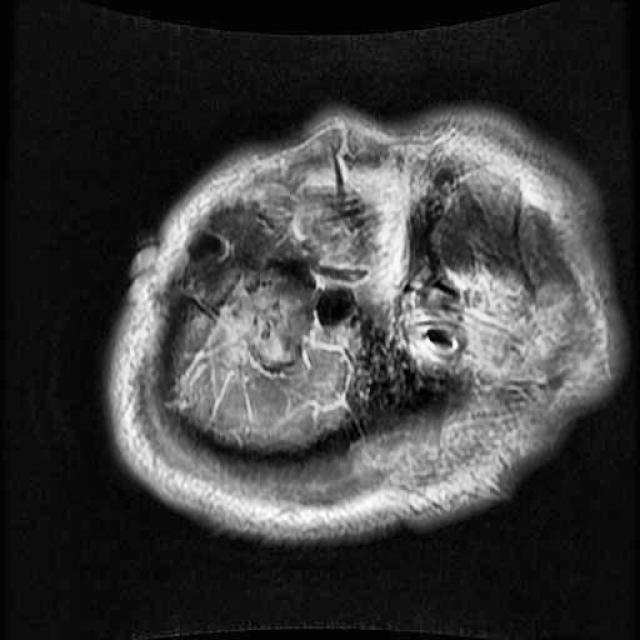Non-Tumor: (214, 259, 321, 385)
